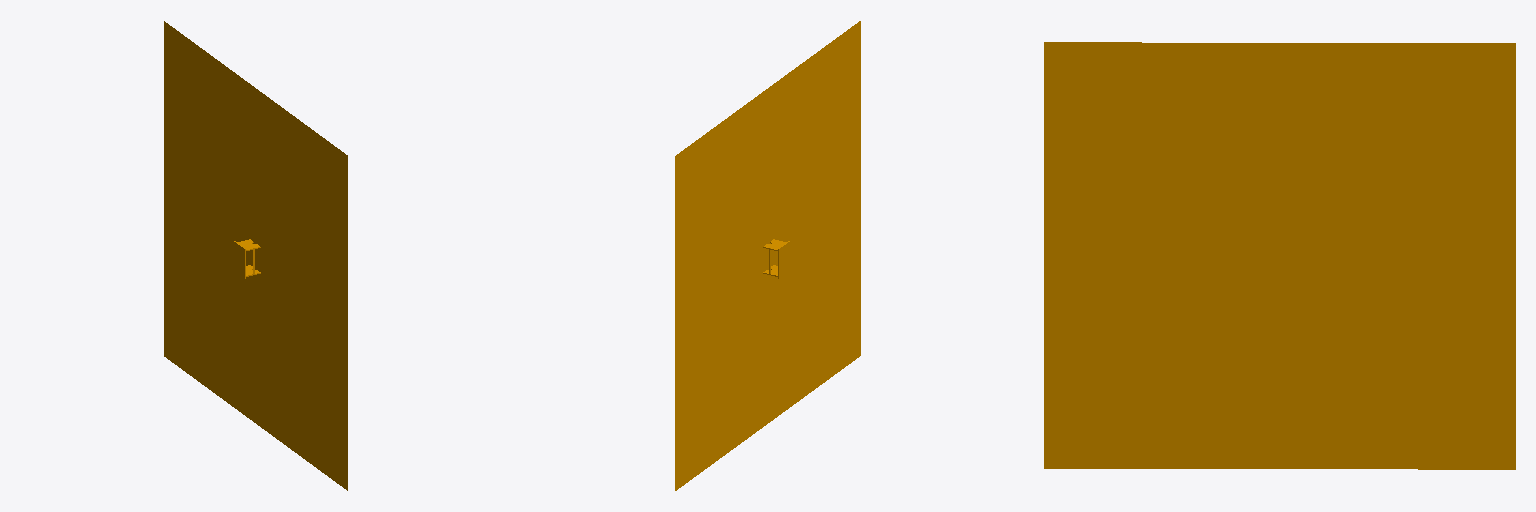
The robot description file, URDF, robot "none":
<robot name="none">
       <link name="none">
           <visual>
               <origin rpy="0 0 1.57 " xyz="0 0 0" />
               <geometry>
                   <mesh filename="Stool.obj" scale="0.1 0.1 0.1" />
               </geometry>
           </visual>
          <collision>
            <origin rpy="1.57 0 0" xyz="0 0 0.3" />
              <geometry>
                  <box size="0.617032 0.600000 0.683208" />
              </geometry>
          </collision>

          <inertial>
            <mass value=".0" />
            <inertia ixx="0.05" ixy="0.0" ixz="0.0" iyy="0.05" iyz="0.0" izz="0.05"/>
          </inertial>
      </link>
  </robot>

--- Render facts (derived) ---
The picture shows the robot from 3 angles, left to right: view 1: azimuth 30°, elevation 25°; view 2: azimuth 150°, elevation 25°; view 3: azimuth 270°, elevation 25°; orthographic projection.
Robot: none — 1 links, 0 joints (none); root link none; default pose: every joint at zero.
Links seen in each view (by area): view 1: none; view 2: none; view 3: none.
Link boxes in pixels (<box>): none: <box>164,21,347,490</box>; none: <box>675,21,860,490</box>; none: <box>1044,42,1515,469</box>.
Size in the robot's own frame: 0.4201 by 8.17 by 8.17 metres.
Meshes: 1 distinct files referenced, 1 mesh visuals loaded (1 OBJ).